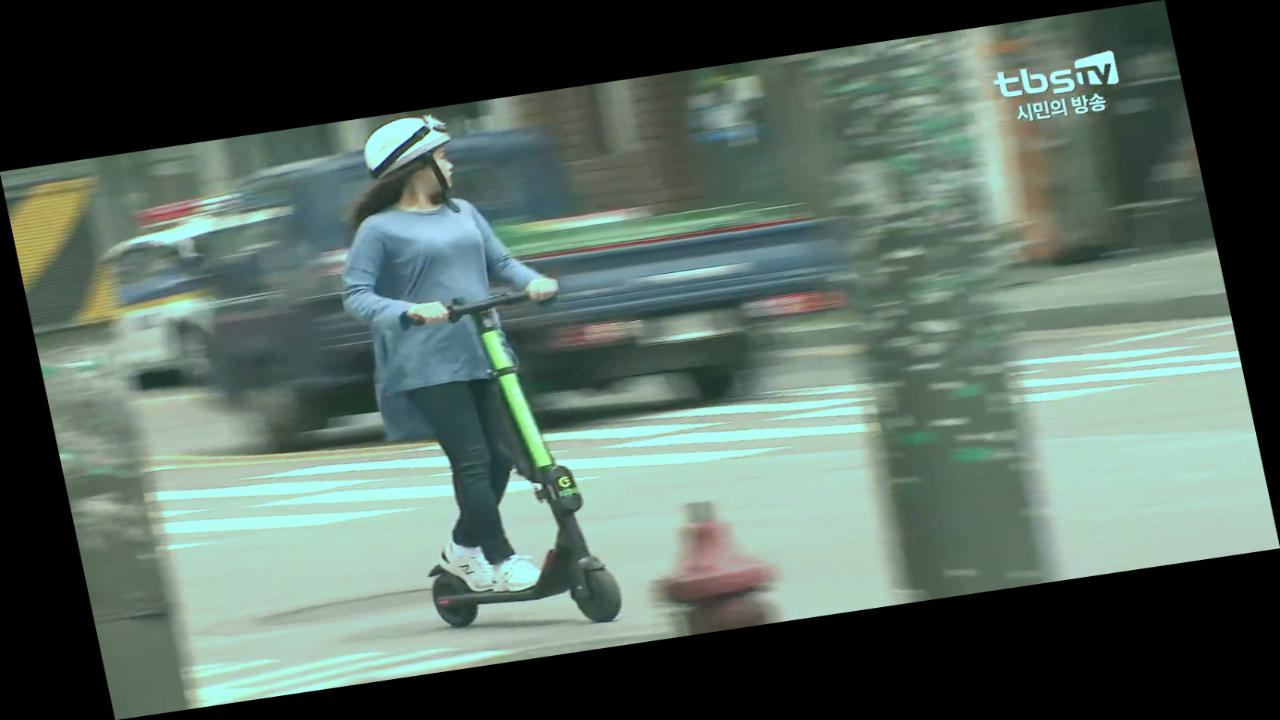helmet: (298, 97, 641, 655)
